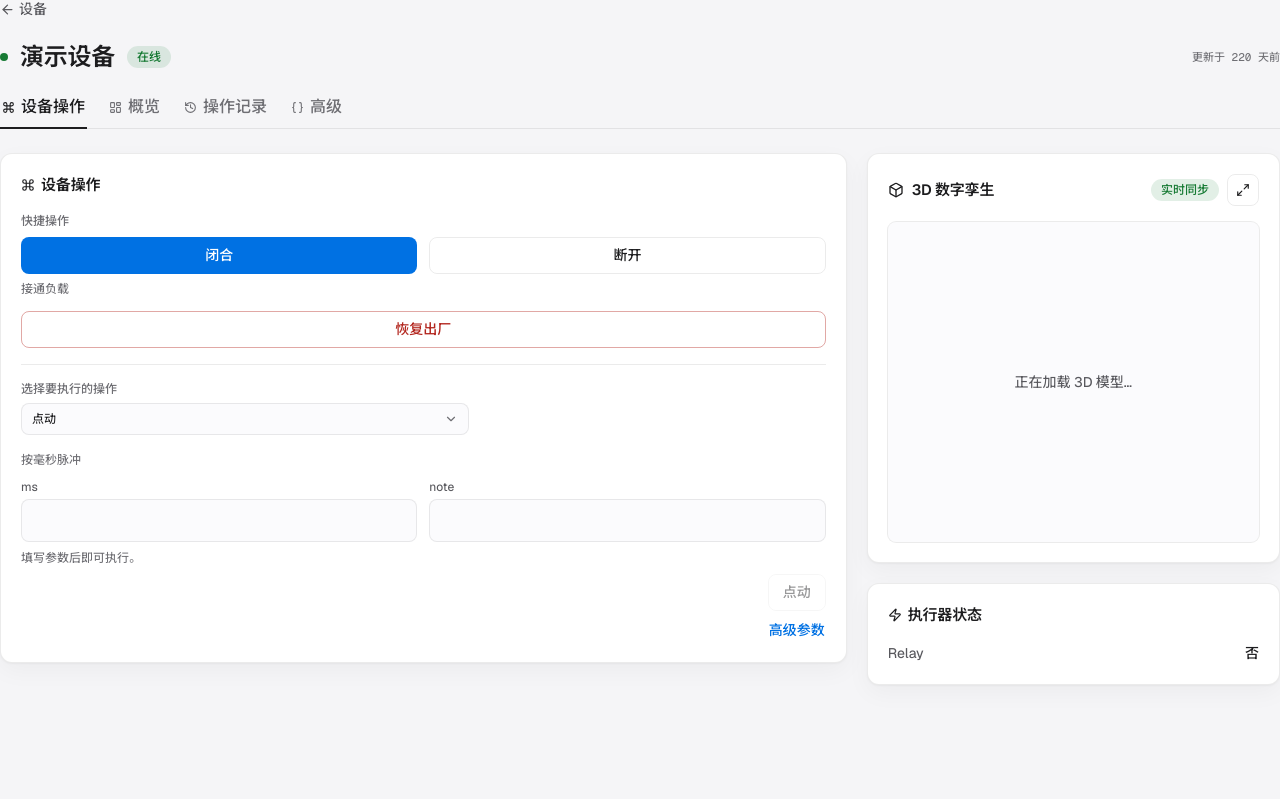
Test case: Driver device UI contribution › renders only the matching verified Driver sections from descriptor and capability facts
The width and height of the screenshot is (1280, 799).
Expected: the heading "演示设备" is shown, [20, 39, 115, 75]
Click the tab "高级". click: [316, 112]
box: [289, 95, 344, 129]
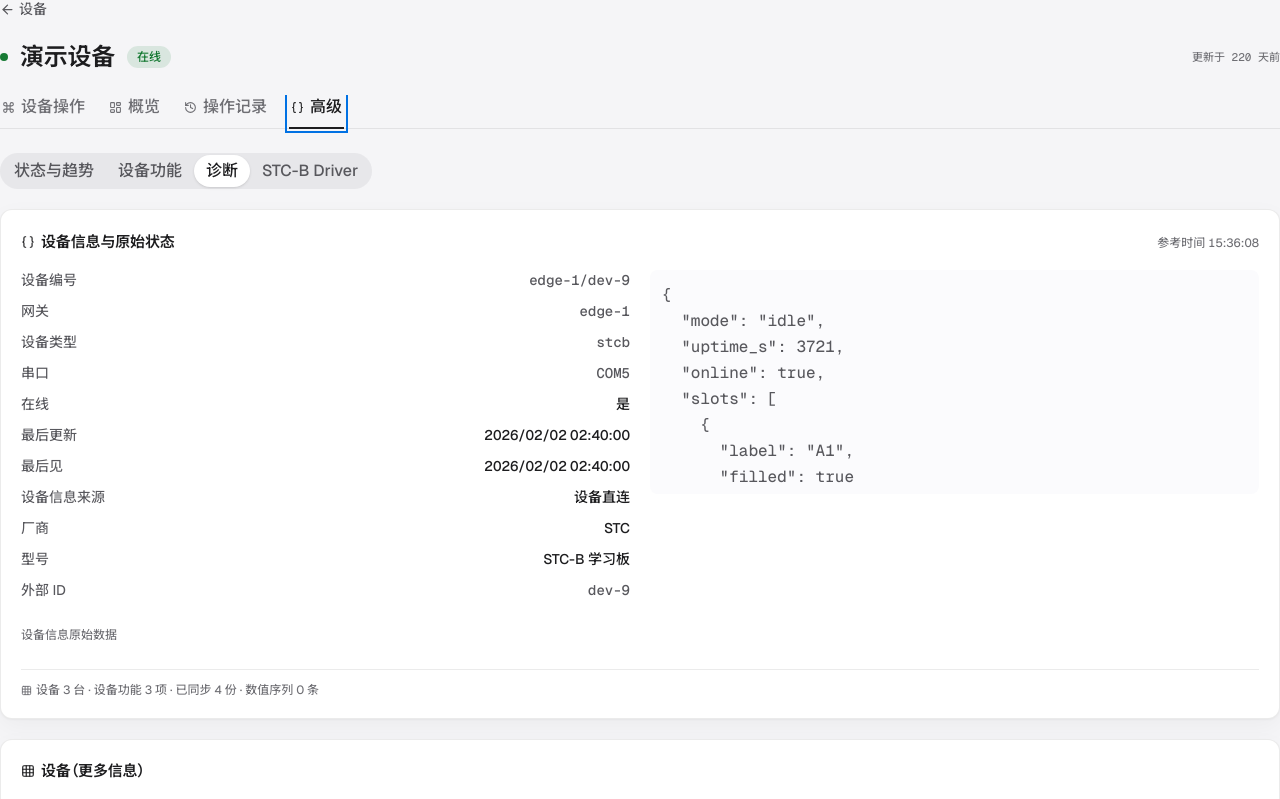
Click the button "STC-B Driver". click: [310, 171]
box: [250, 155, 370, 187]
(page scrolled)
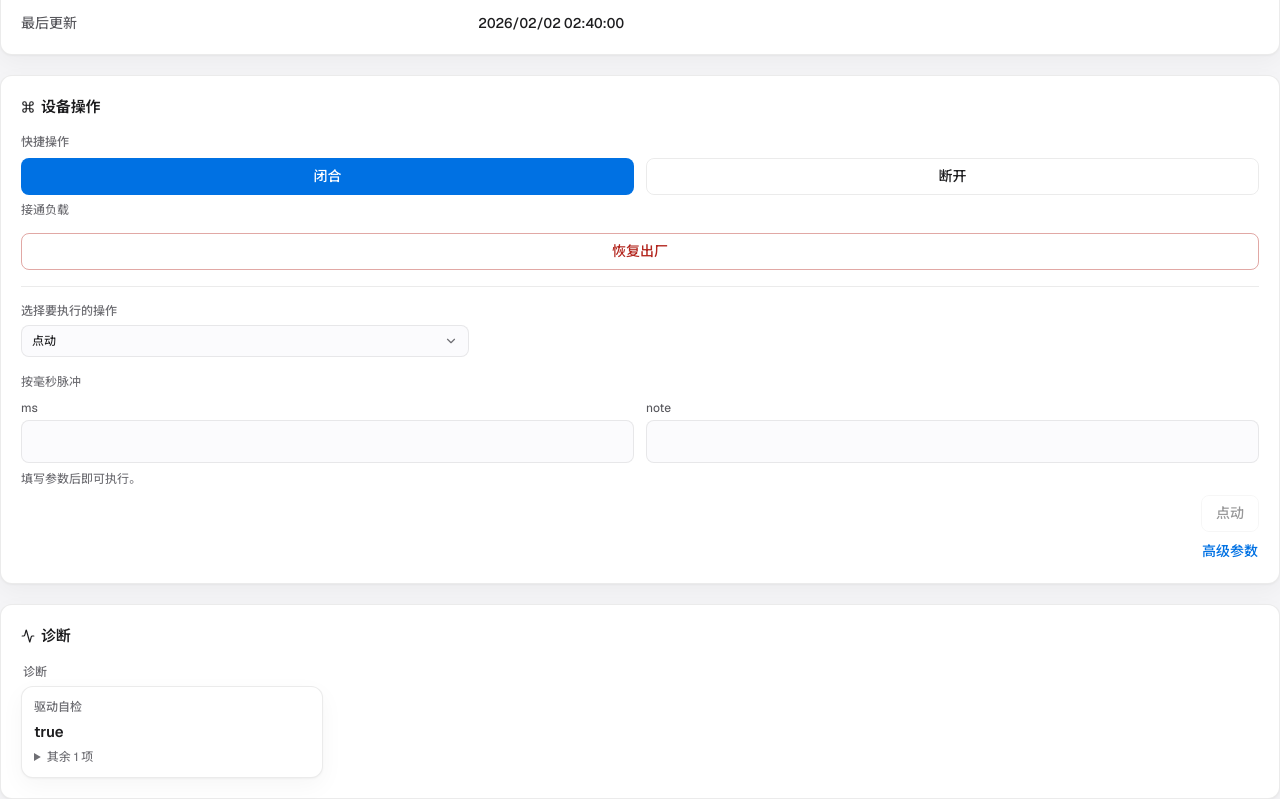
Expected: the text "驱动自检" is shown, [34, 698, 82, 714]
Expected: the button "闭合" is shown, [21, 158, 634, 195]
